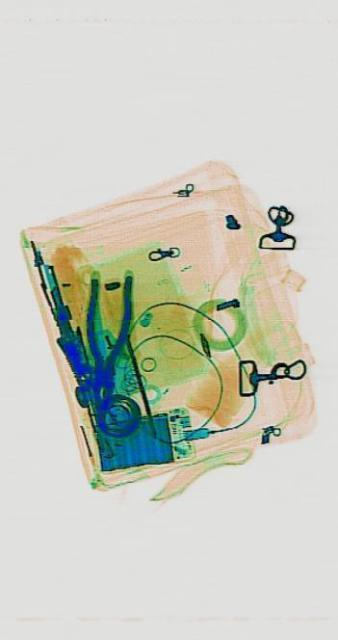Pliers: (77, 264, 132, 428)
